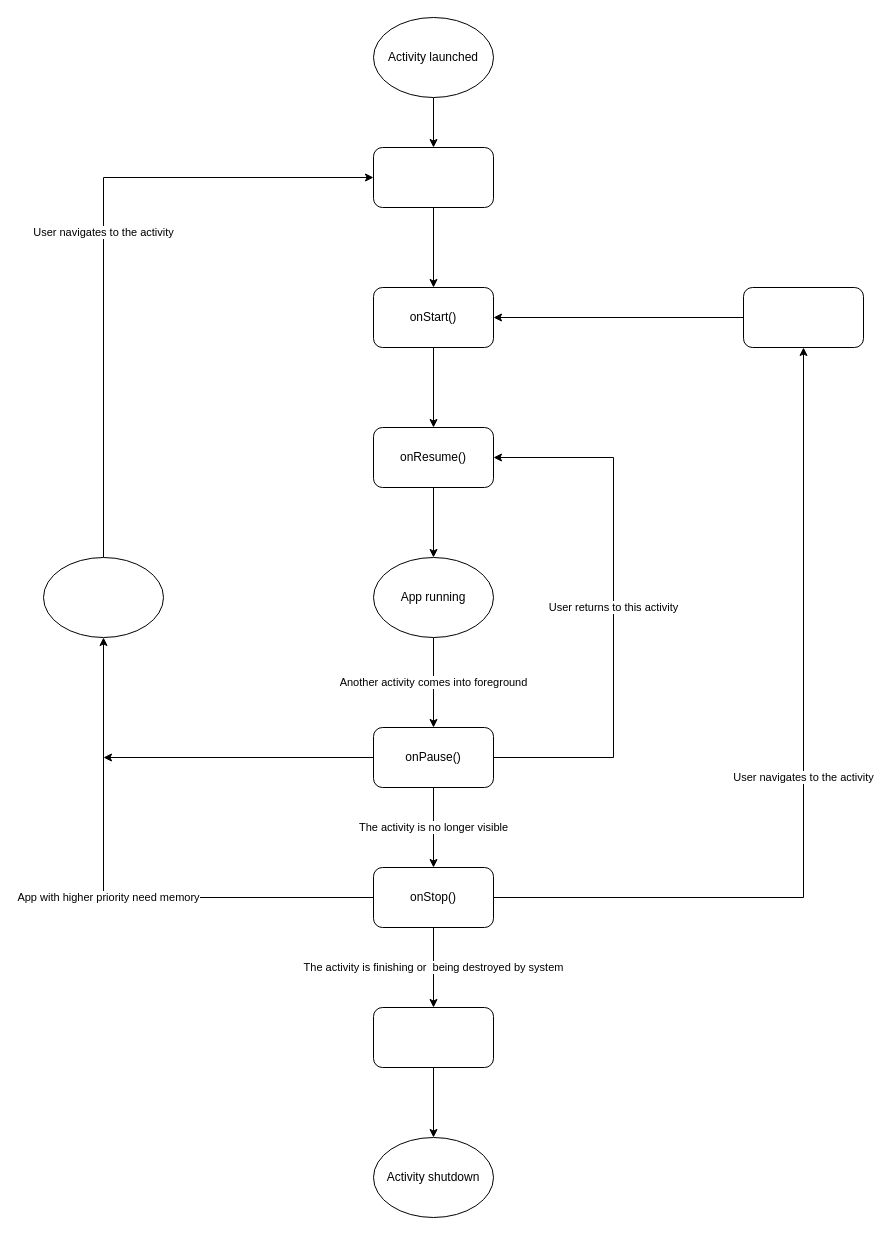
This 891x1235 diagram has some shape labels left out. The shapes that lost their labels are listed below. From the top down, each one's box as (x1, y1, x2, y2) in pixels, then its label:
(372, 146, 494, 208): onCreate()
(742, 286, 864, 348): onRestart()
(42, 556, 164, 638): System kills app process
(372, 1006, 494, 1068): onDestroy()
